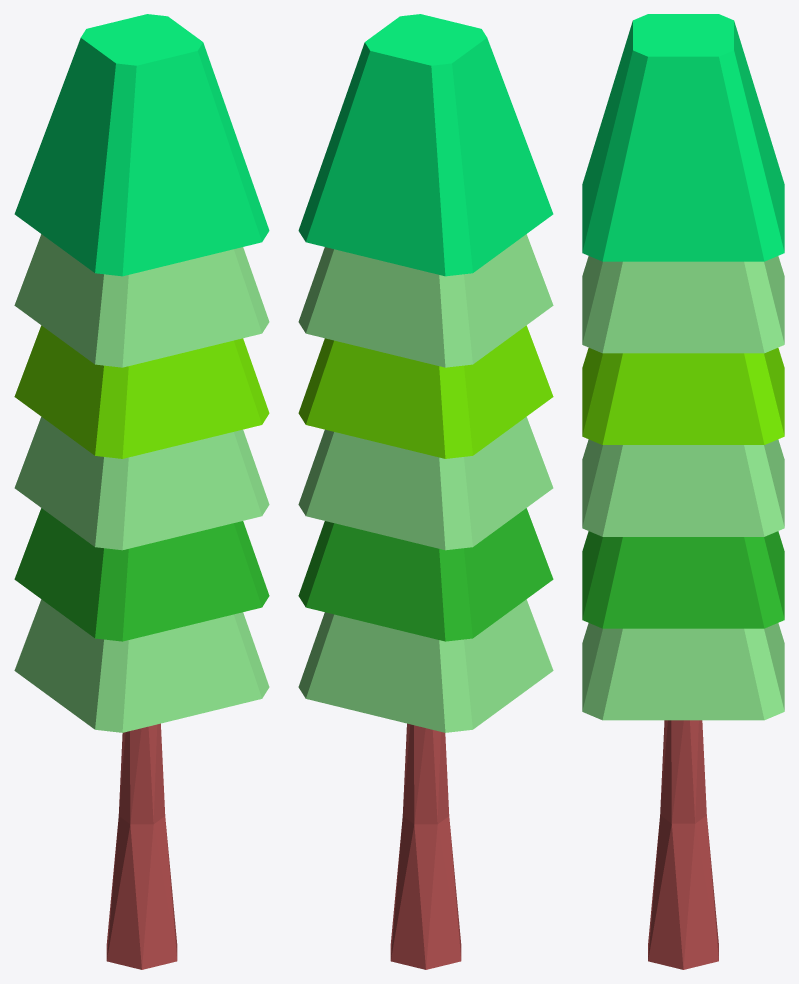
The model's file is popsicle_tree_medium.fbx.
3 views of the same model, side by side, from view 1: azimuth 30°, elevation 25°; view 2: azimuth 150°, elevation 25°; view 3: azimuth 270°, elevation 25° (orthographic).
Visible parts, largest first — view 1: G-Object.002, G-Object.006, G-Object.001, G-Object.003, G-Object.005, G-Object.004, G-Object.007; view 2: G-Object.002, G-Object.006, G-Object.001, G-Object.003, G-Object.005, G-Object.004, G-Object.007; view 3: G-Object.002, G-Object.001, G-Object.006, G-Object.003, G-Object.004, G-Object.005, G-Object.007.
Boxes of the visible parts, box(x1,y1,x2,y2) form: G-Object.002: box(14, 14, 269, 276); G-Object.006: box(14, 599, 269, 732); G-Object.001: box(14, 234, 269, 367); G-Object.003: box(14, 508, 269, 641); G-Object.005: box(14, 325, 269, 458); G-Object.004: box(14, 417, 269, 550); G-Object.007: box(106, 723, 177, 969); G-Object.002: box(298, 14, 553, 276); G-Object.006: box(298, 599, 553, 732); G-Object.001: box(298, 234, 553, 367); G-Object.003: box(298, 508, 553, 641); G-Object.005: box(298, 325, 553, 458); G-Object.004: box(298, 417, 553, 550); G-Object.007: box(390, 723, 461, 969); G-Object.002: box(582, 14, 784, 261); G-Object.001: box(582, 256, 784, 353); G-Object.006: box(582, 623, 784, 720); G-Object.003: box(582, 531, 784, 628); G-Object.004: box(582, 439, 784, 536); G-Object.005: box(582, 348, 784, 444); G-Object.007: box(648, 720, 718, 969).
Bounding box in the file's own units: 200 × 1000 × 200.
